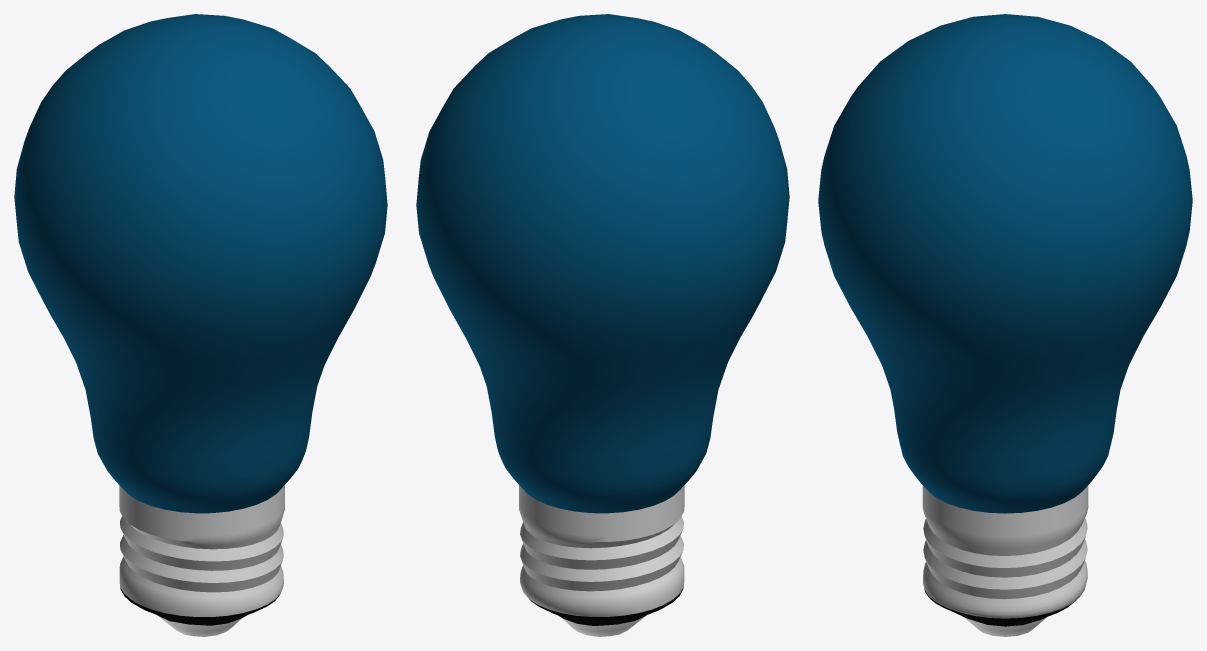
Rendered from bulb-3d2.glb.
3 renders of one model, left to right at view 1: azimuth 30°, elevation 25°; view 2: azimuth 150°, elevation 25°; view 3: azimuth 270°, elevation 25°, orthographic.
Visible parts, largest first — view 1: Roundcube; view 2: Roundcube; view 3: Roundcube.
Boxes of the visible parts, x1,y1,x2,y2 form: Roundcube: [14, 14, 387, 636]; Roundcube: [416, 14, 789, 636]; Roundcube: [818, 14, 1192, 636].
Size of the model in its own units: 4.6 by 8.12 by 4.6.
